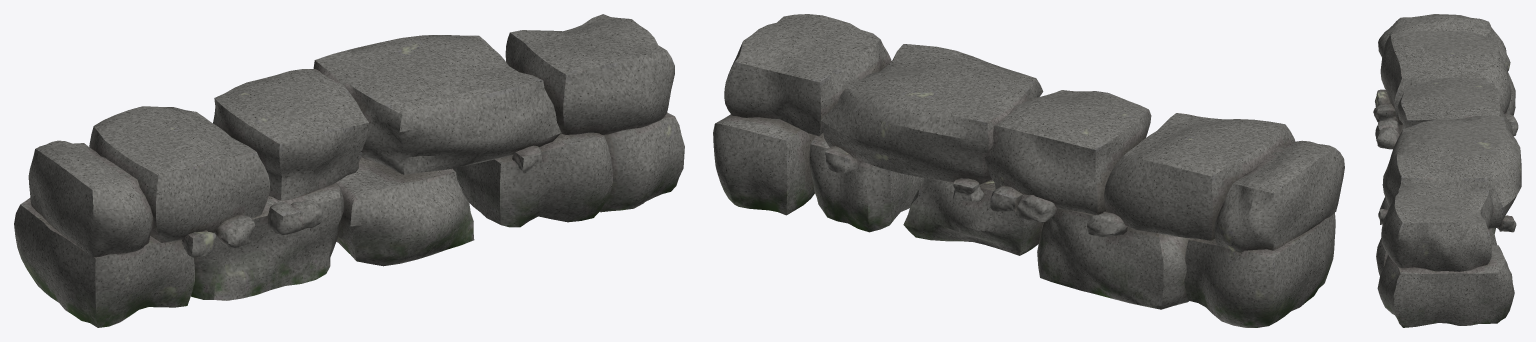
File: foundation_2m.glb
3 renders of one model, left to right at view 1: azimuth 30°, elevation 25°; view 2: azimuth 150°, elevation 25°; view 3: azimuth 270°, elevation 25°, orthographic. The views are drawn at different scales.
Parts seen in each view (by area): view 1: foundation_2m; view 2: foundation_2m; view 3: foundation_2m.
Part boxes in pixels (bbox=[...]): foundation_2m: bbox=[14, 14, 684, 327]; foundation_2m: bbox=[713, 14, 1344, 327]; foundation_2m: bbox=[1373, 14, 1521, 327].
Size of the model in its own units: 2.04 by 0.496 by 0.5995.
Materials: 1 (1 with a texture image).
